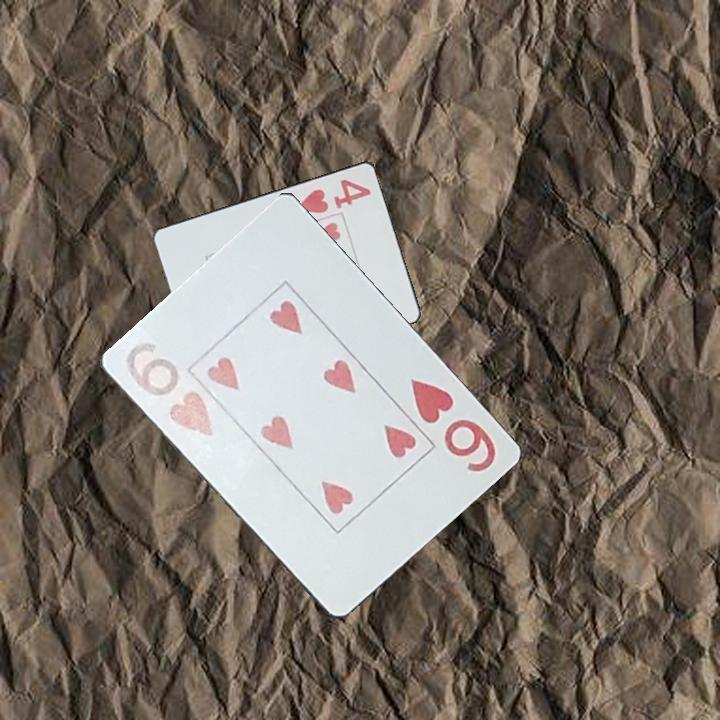4h: (293, 174, 374, 216)
6h: (116, 336, 216, 445), (406, 375, 499, 476)
